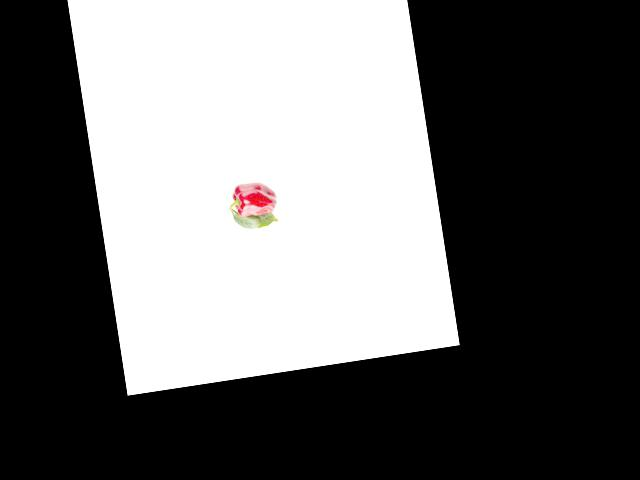bell_pepper: (226, 175, 280, 221)
